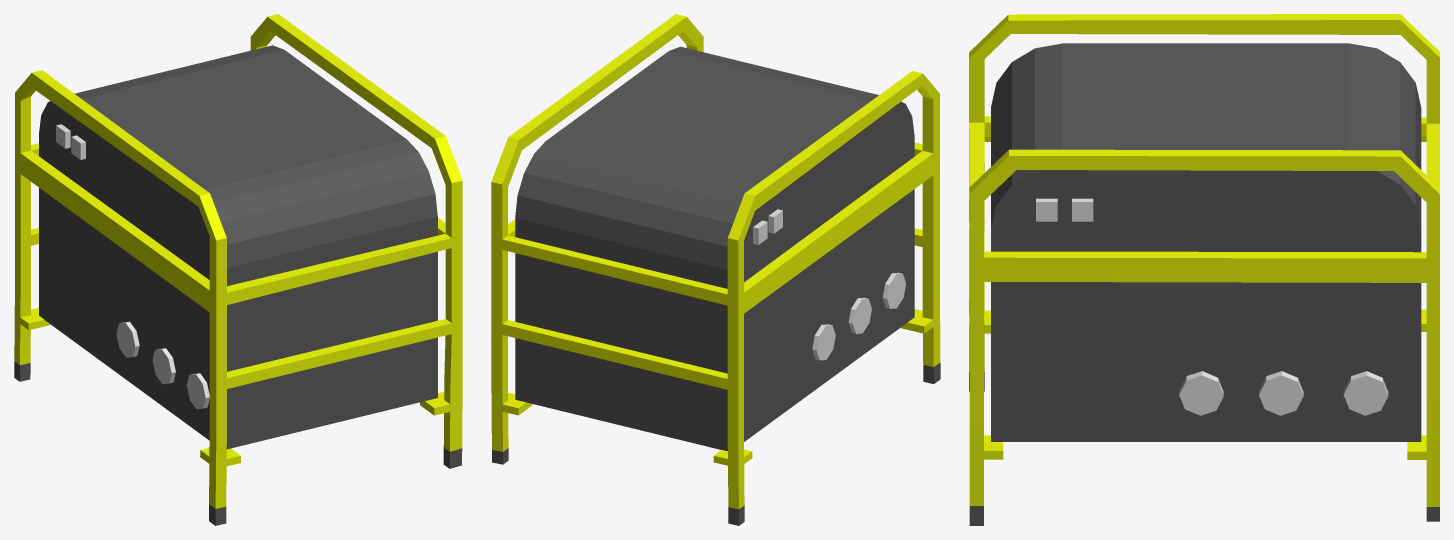
Rendered from device.fbx.
3 views of the same model, side by side, from view 1: azimuth 30°, elevation 25°; view 2: azimuth 150°, elevation 25°; view 3: azimuth 270°, elevation 25° (orthographic). The views are drawn at different scales.
Visible parts, largest first — view 1: Element 1, Element 2, ConnectButton 5, ConnectButton 4, ConnectButton 6; view 2: Element 1, Element 2, ConnectButton 6, ConnectButton 4, ConnectButton 5; view 3: Element 1, Element 2, ConnectButton 1, ConnectButton 3, ConnectButton 2.
Boxes of the visible parts, x1=… form: Element 1: x1=39, y1=45, x2=437, y2=449; Element 2: x1=14, y1=14, x2=462, y2=525; ConnectButton 5: x1=152, y1=348, x2=175, y2=384; ConnectButton 4: x1=186, y1=373, x2=209, y2=409; ConnectButton 6: x1=116, y1=321, x2=139, y2=357; Element 1: x1=515, y1=46, x2=914, y2=451; Element 2: x1=491, y1=14, x2=940, y2=525; ConnectButton 6: x1=812, y1=324, x2=835, y2=360; ConnectButton 4: x1=882, y1=272, x2=905, y2=308; ConnectButton 5: x1=848, y1=297, x2=871, y2=333; Element 1: x1=991, y1=43, x2=1421, y2=441; Element 2: x1=969, y1=14, x2=1439, y2=525; ConnectButton 1: x1=1343, y1=371, x2=1388, y2=415; ConnectButton 3: x1=1179, y1=371, x2=1223, y2=415; ConnectButton 2: x1=1259, y1=371, x2=1303, y2=415.
Bounding box in the file's own units: 155 × 191 × 219.
